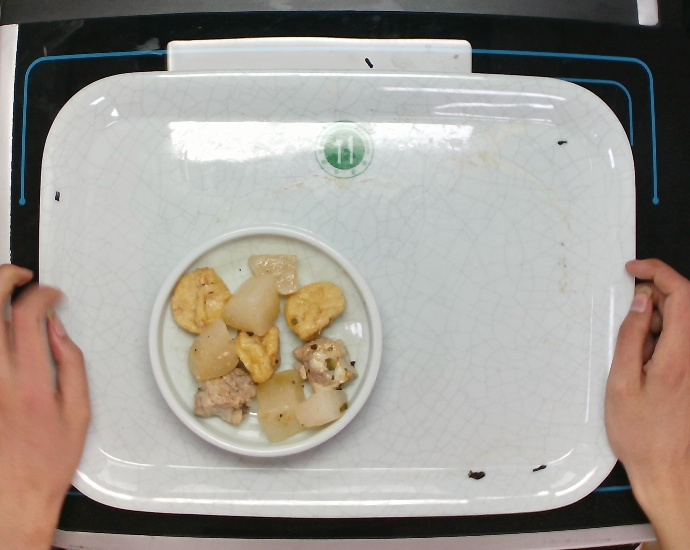JYsf-Xiao_Yuan_Pan: (144, 220, 387, 462)
